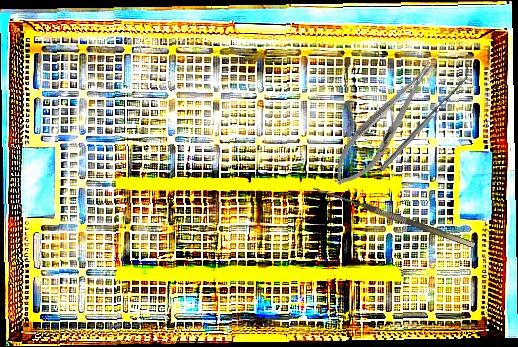Hook Surgical: (309, 184, 476, 257)
Needle Holder: (323, 52, 446, 196)
Spatula Surgical: (375, 66, 475, 172)
